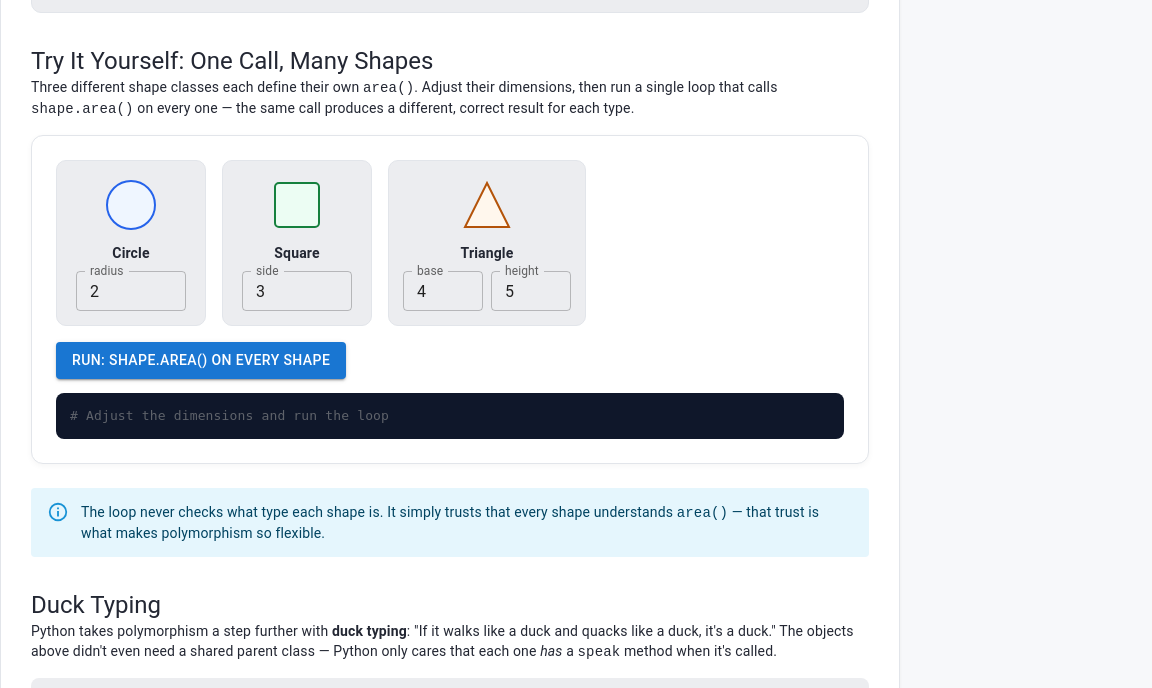
Test: PolymorphismConcept › runs area() across every shape with the default sizes
(page scrolled)
Click the button "Run: shape.area() on every shape" at (201, 360), box [56,342,346,379]
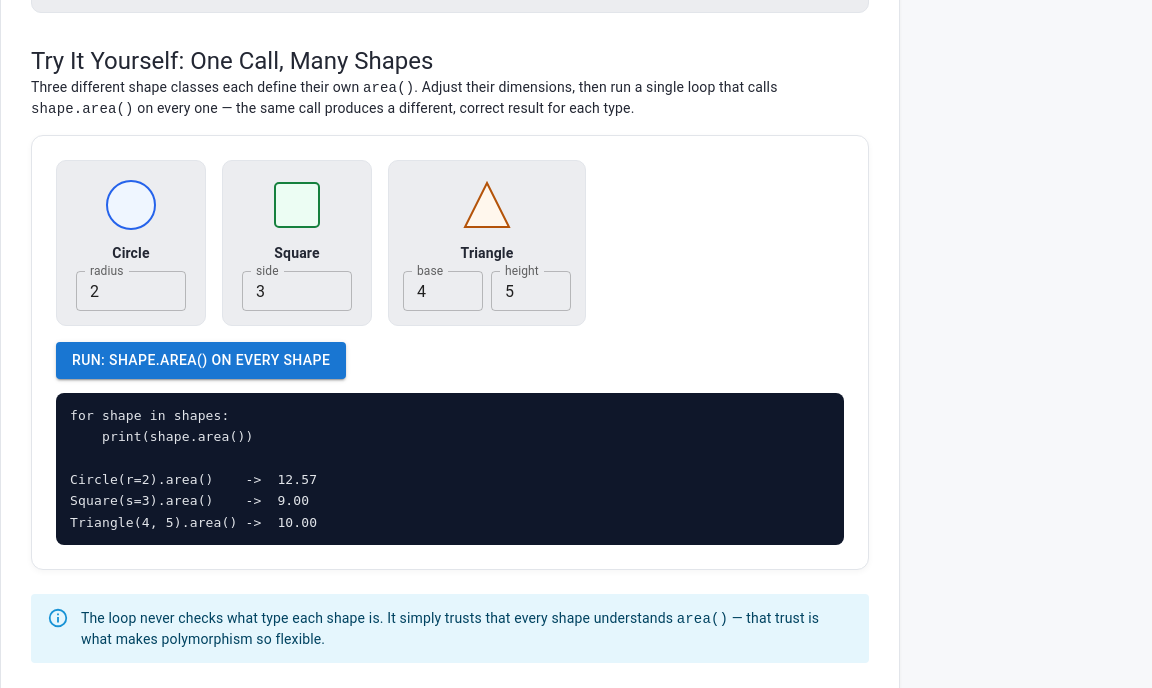
Result: the text "Circle(r=2).area() -> 12.57" is shown at [70,472,317,487]
Result: the text "Square(s=3).area() -> 9.00" is shown at [70,494,309,508]
Result: the text "Triangle(4, 5).area() -> 10.00" is shown at [70,515,317,530]
